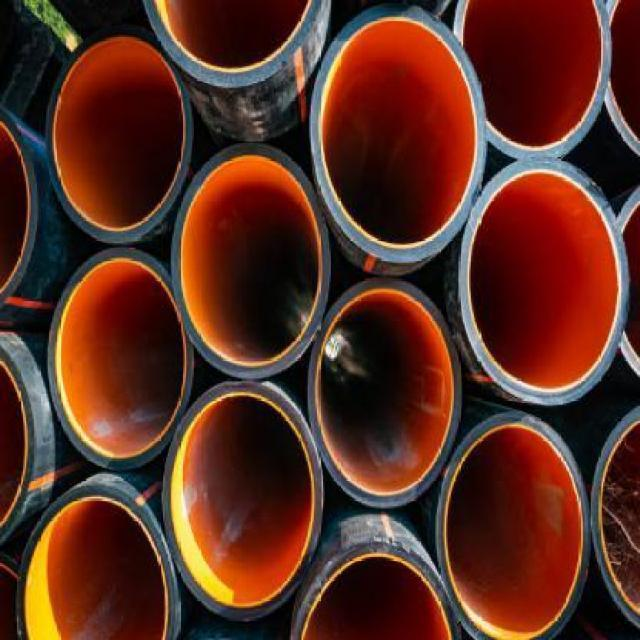pipe: (310, 4, 486, 263), (458, 158, 629, 406), (162, 382, 324, 621), (172, 143, 331, 379), (308, 279, 462, 508), (436, 411, 590, 639), (48, 248, 194, 468), (45, 28, 193, 244), (16, 483, 179, 639), (453, 0, 612, 158), (289, 538, 462, 640), (142, 0, 331, 89), (589, 407, 640, 632), (0, 346, 38, 541), (0, 109, 35, 303), (599, 0, 639, 157)
